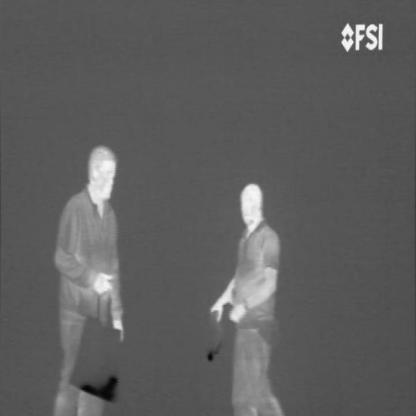weapon: (78, 373, 121, 404)
